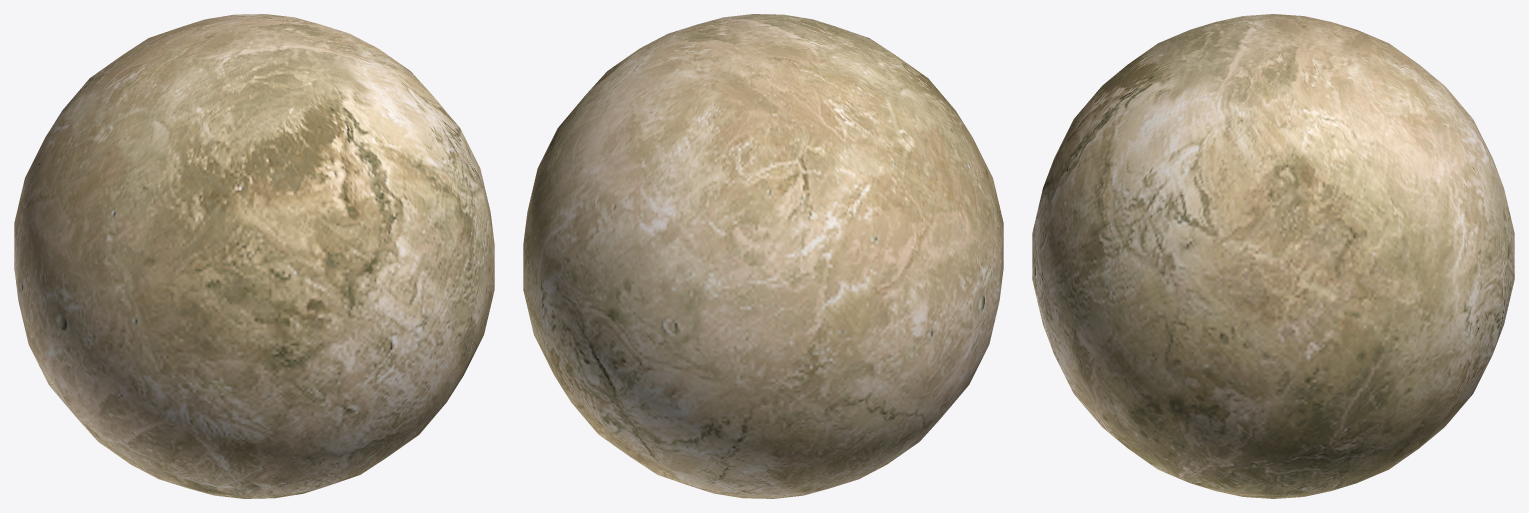
File: AsteroidL.obj
3 renders of one model, left to right at view 1: azimuth 30°, elevation 25°; view 2: azimuth 150°, elevation 25°; view 3: azimuth 270°, elevation 25°, orthographic.
Size of the model in its own units: 1.99 by 2 by 1.99.
1 material, 1 textured.
